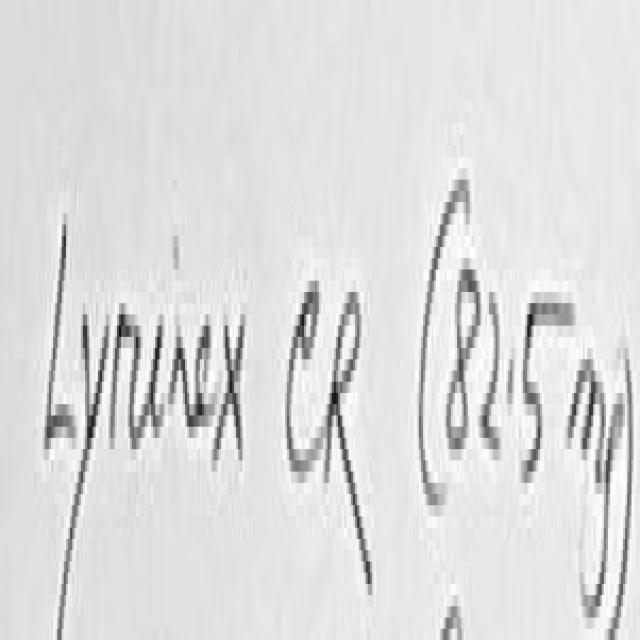2: (483, 292, 502, 444)
5: (525, 303, 576, 477)
8: (449, 269, 483, 449)
C: (287, 281, 323, 472)
L: (45, 225, 74, 444)
R: (325, 292, 372, 589)
e: (196, 321, 217, 421)
g: (583, 393, 627, 612)
i: (142, 309, 164, 450)
m: (570, 359, 608, 477)
n: (170, 321, 196, 438)
r: (111, 303, 140, 444)
x: (213, 314, 243, 455)
y: (62, 320, 107, 634)
